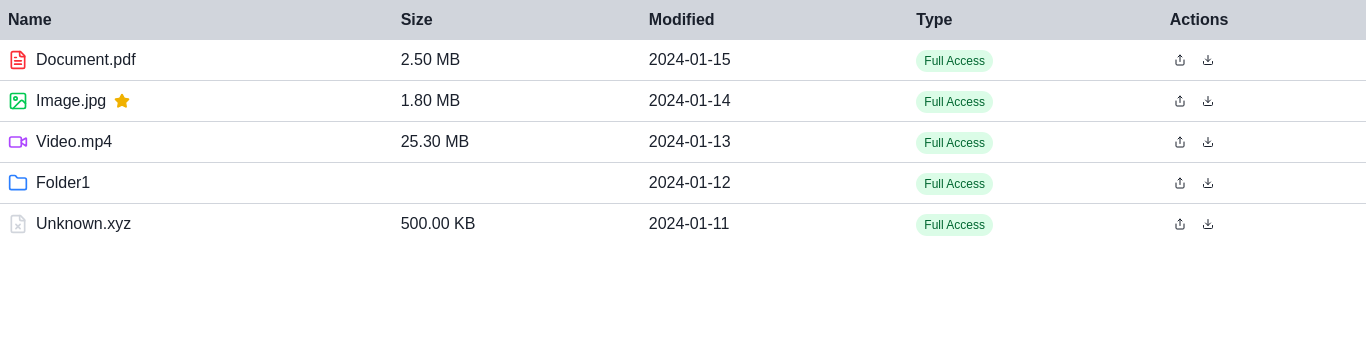
Test: FileList Component › handles context menu share action
Right-click the row "Document.pdf 2.50 MB 2024-01-15 Full Access" at (683, 61), box [0,40,1365,81]
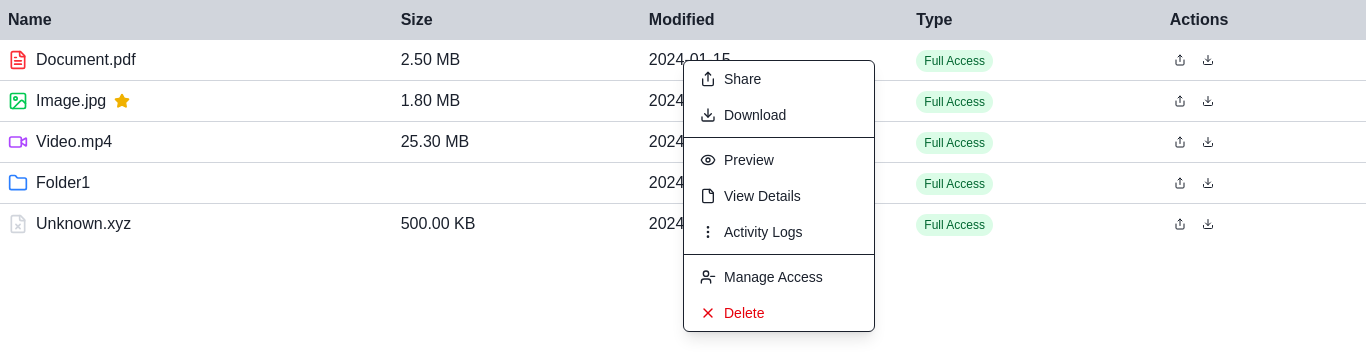
Click the button "Share" at (779, 79), box [684,61,874,97]
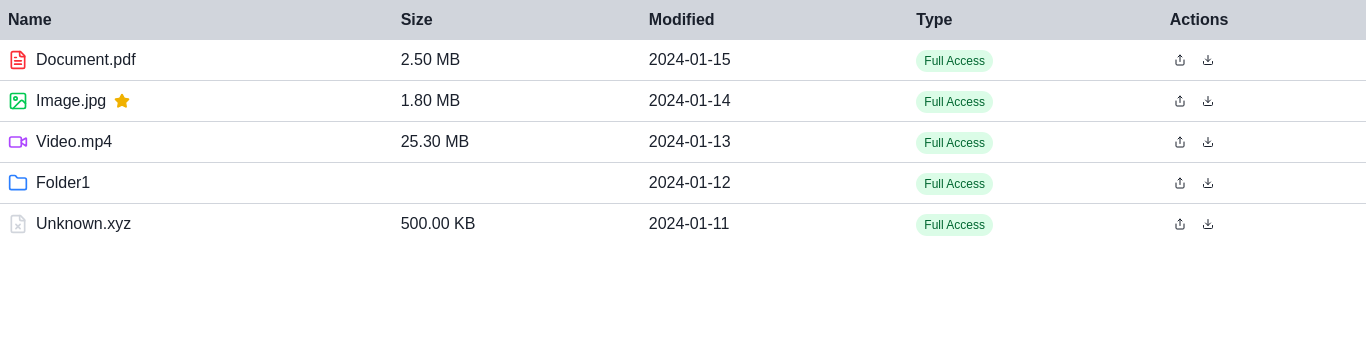
Expected: the element with class "z-50" is gone
